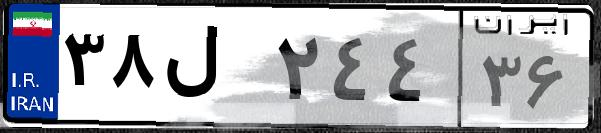2: (270, 28, 330, 110)
3: (57, 26, 110, 100), (475, 38, 525, 113)
4: (385, 28, 445, 110), (330, 28, 385, 110)
6: (525, 38, 570, 115)
8: (110, 28, 158, 98)
ل: (158, 20, 270, 120)
